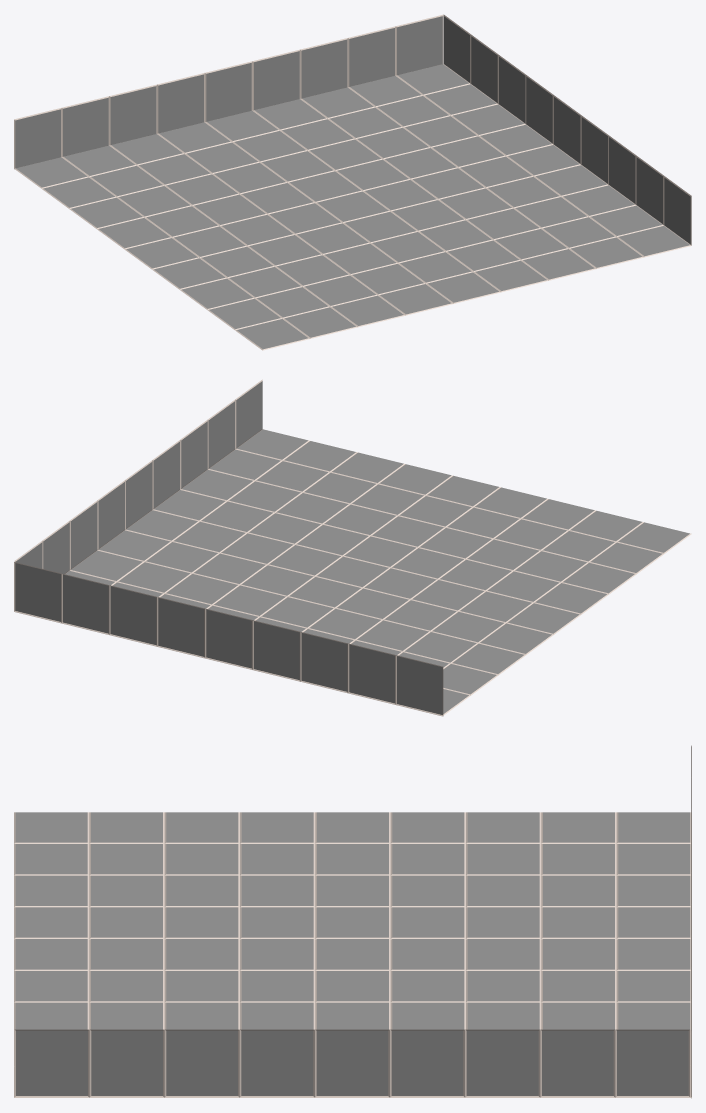
Rendered from Floortile_9.fbx.
3 renders of one model, top to bottom at view 1: azimuth 30°, elevation 25°; view 2: azimuth 150°, elevation 25°; view 3: azimuth 270°, elevation 25°, orthographic. The views are drawn at different scales.
Parts seen in each view (by area): view 1: Floortile_9; view 2: Floortile_9; view 3: Floortile_9.
Part boxes in pixels (box(x1,y1,x2,y2)): Floortile_9: box(14, 14, 691, 350); Floortile_9: box(14, 379, 691, 716); Floortile_9: box(14, 745, 691, 1098).
Bounding box in the file's own units: 489 × 490 × 55.28.
